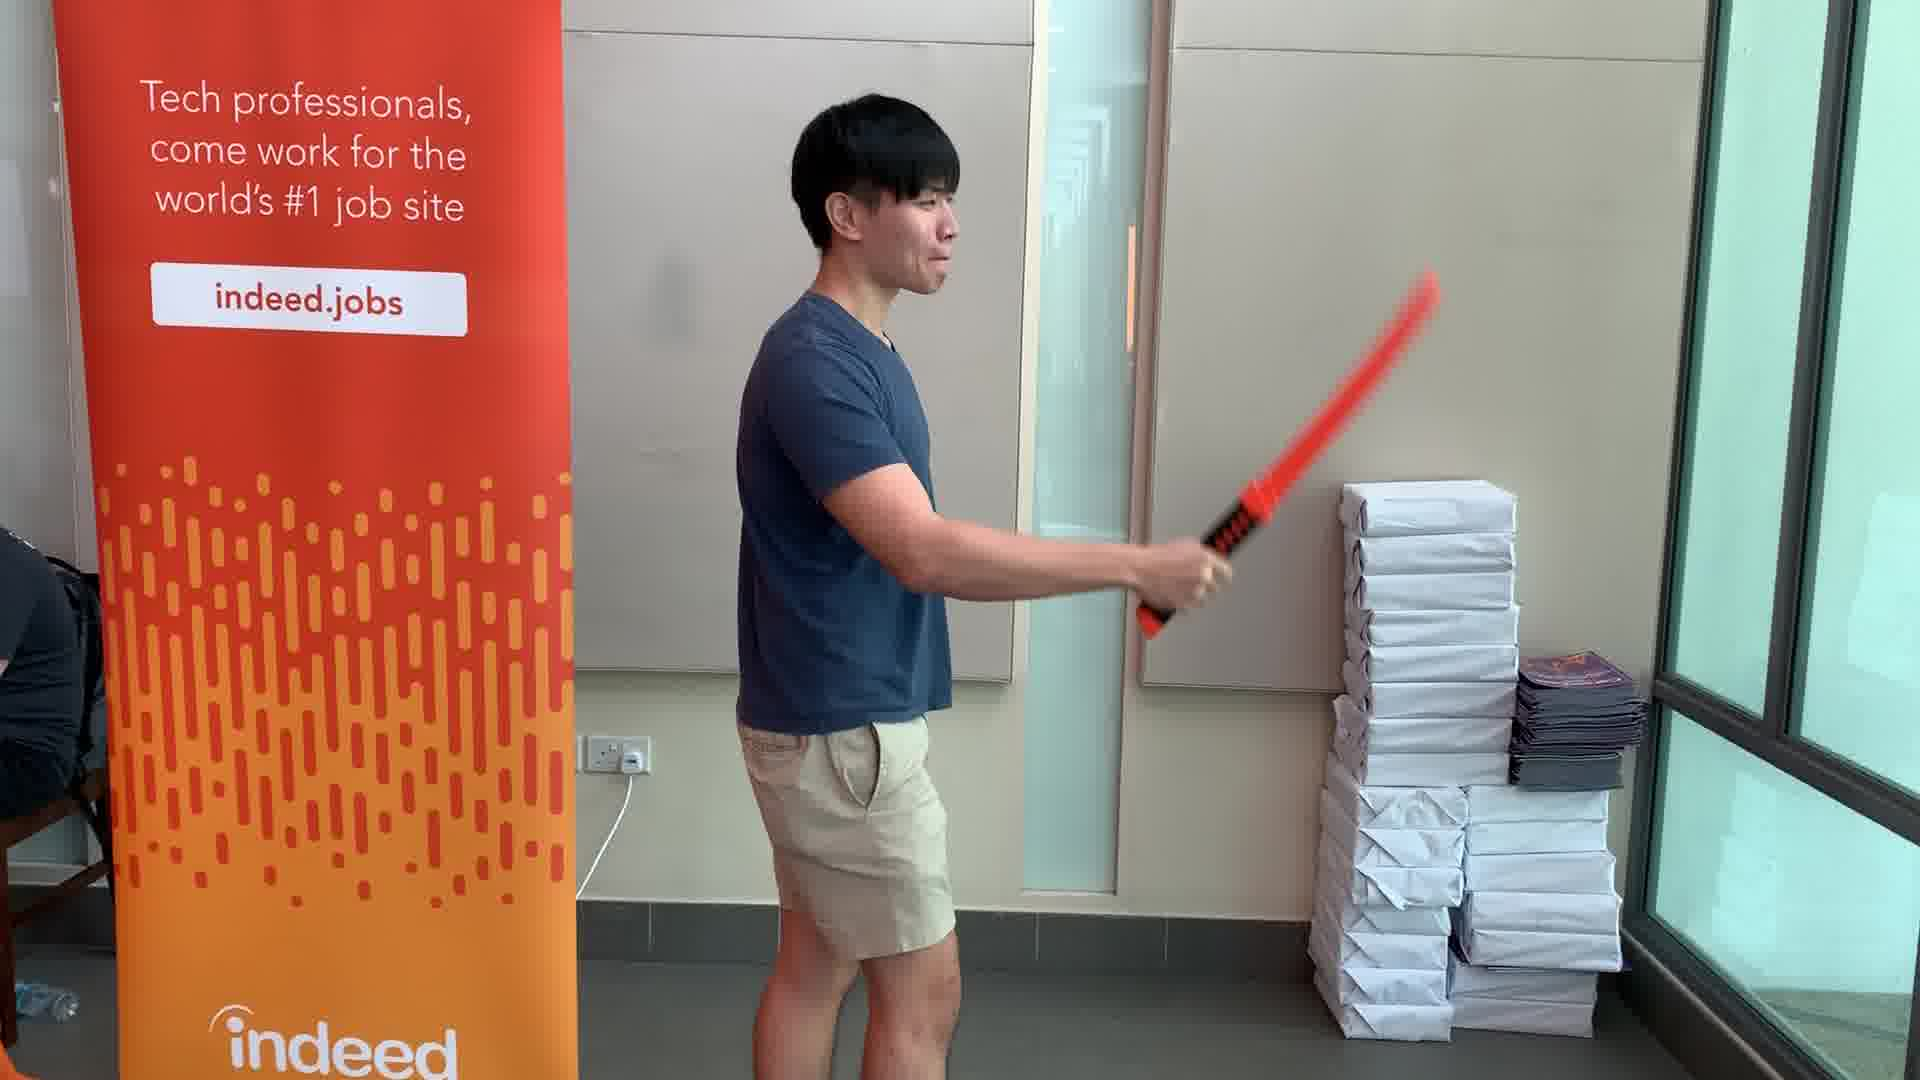knife: (1127, 262, 1447, 651)
